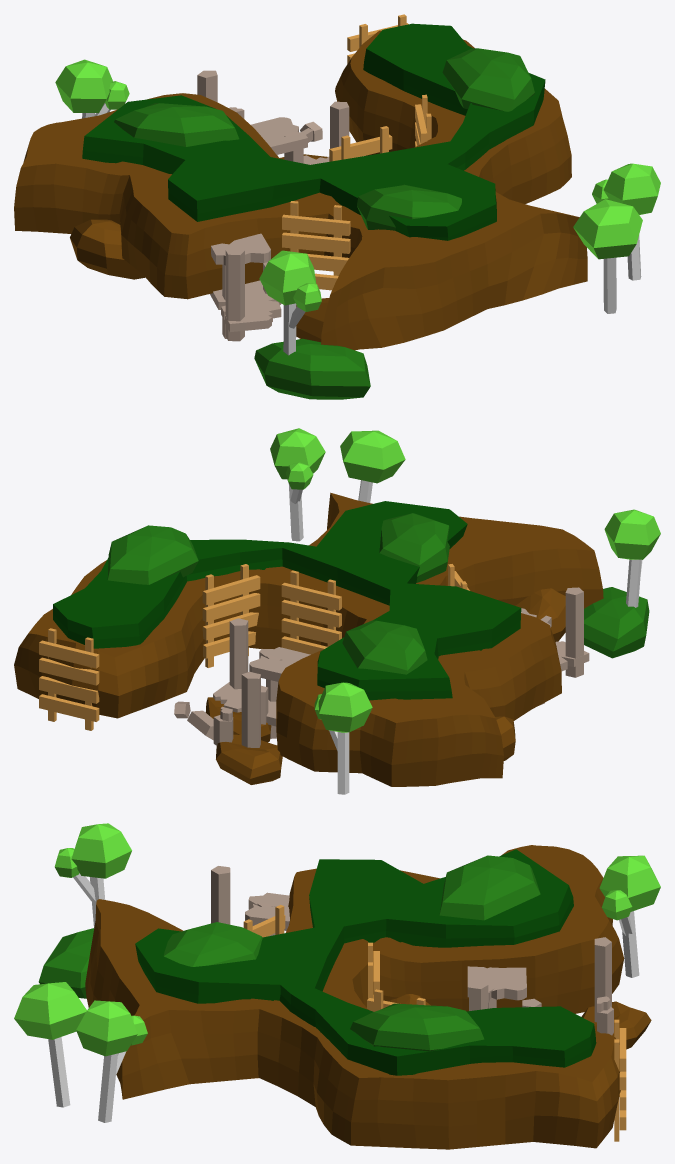
The model's file is forest_birch_dig.glb.
3 views of the same model, one above another, from view 1: azimuth 30°, elevation 25°; view 2: azimuth 150°, elevation 25°; view 3: azimuth 270°, elevation 25° (orthographic). The views are drawn at different scales.
Visible parts, largest first — view 1: Digsite, Plane, bush.029, Ruins1.001, bush, bush.030, Tree2.025, Tree1.035, diggingWood.003, bush.028, Tree1.001, Tree1.002 (+7 smaller); view 2: Digsite, Plane, bush, diggingWood.001, Ruins1, diggingWood, bush.029, bush.030, diggingWood.002, bush.028, Tree1.001, Tree1.002 (+8 smaller); view 3: Digsite, Plane, bush.030, bush, Tree2.025, Tree1.002, Tree1.001, Tree1.035, bush.028, Ruins1, bush.029, Ruins1.001 (+5 smaller).
Part boxes in pixels (x1,y1,x2,y2): Digsite: [14, 30, 587, 350]; Plane: [82, 23, 545, 240]; bush.029: [254, 338, 370, 399]; Ruins1.001: [210, 233, 281, 341]; bush: [442, 48, 534, 111]; bush.030: [114, 103, 239, 146]; Tree2.025: [573, 199, 642, 313]; Tree1.035: [259, 250, 321, 355]; diggingWood.003: [282, 201, 350, 290]; bush.028: [357, 184, 461, 230]; Tree1.001: [55, 59, 129, 118]; Tree1.002: [592, 163, 660, 280]; Digsite: [14, 492, 603, 786]; Plane: [53, 501, 521, 700]; bush: [107, 525, 198, 584]; diggingWood.001: [39, 628, 99, 730]; Ruins1: [213, 618, 310, 738]; diggingWood: [281, 570, 341, 654]; bush.029: [584, 587, 649, 658]; bush.030: [342, 620, 427, 674]; diggingWood.002: [202, 564, 260, 667]; bush.028: [379, 513, 449, 582]; Tree1.001: [314, 682, 372, 794]; Tree1.002: [270, 428, 325, 541]; Digsite: [85, 845, 624, 1149]; Plane: [135, 849, 596, 1075]; bush.030: [439, 855, 540, 920]; bush: [350, 1003, 484, 1051]; Tree2.025: [14, 982, 86, 1107]; Tree1.002: [76, 1000, 147, 1122]; Tree1.001: [599, 855, 660, 977]; Tree1.035: [54, 823, 131, 928]; bush.028: [163, 922, 262, 966]; Ruins1: [467, 966, 541, 1010]; bush.029: [38, 928, 93, 998]; Ruins1.001: [211, 866, 289, 936].
Size of the model in its own units: 8.56 by 2.53 by 9.56.
